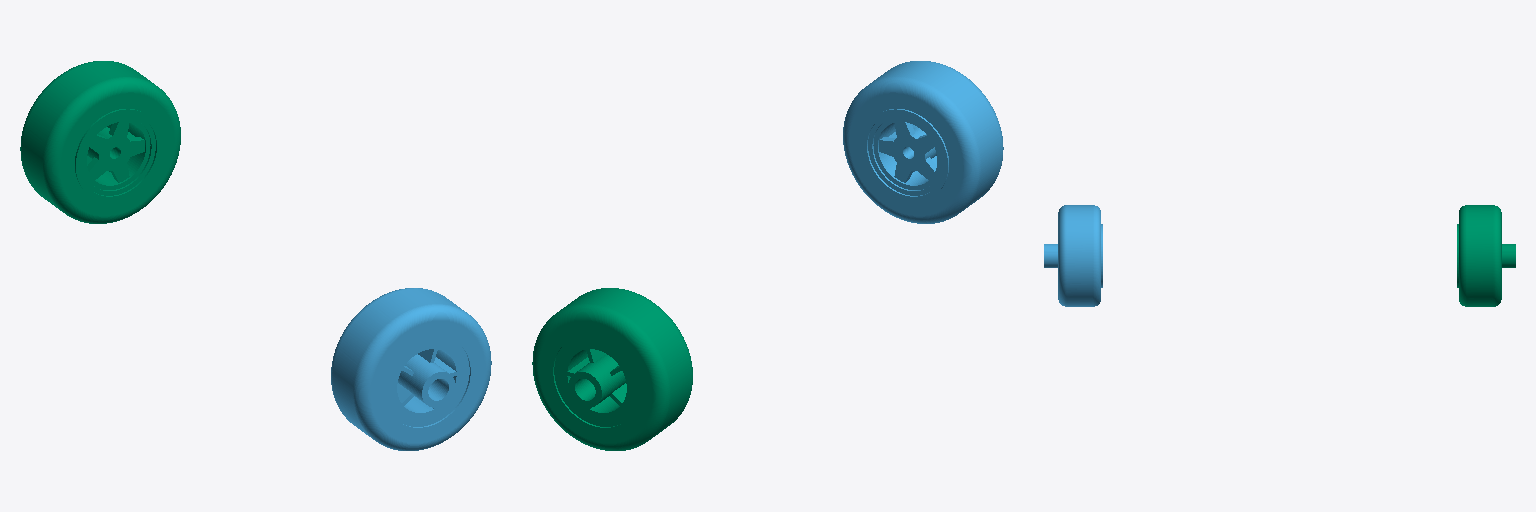
robot.urdf — my_robot:
<?xml version="1.0" encoding="utf-8"?>
<!-- =================================================================================== -->
<!-- |    This document was autogenerated by xacro from 01-robot_biele.xacro           | -->
<!-- |    EDITING THIS FILE BY HAND IS NOT RECOMMENDED                                 | -->
<!-- =================================================================================== -->
<robot name="my_robot">
  <!--SECTION PRINCIPALE-->
  <link name="base_link">
    <visual>
      <origin rpy="0.0 0.0 0.0" xyz="-0.041 -0.064 -0.01388"/>
      <geometry>
        <mesh filename="package://my_robot_description/meshes/batit.STL" scale="1 1 1"/>
      </geometry>
    </visual>
    <!--<inertial>
                
                <inertia ixx="216.440077" ixy="11.153975" ixz="37.585887"
                     iyy="198.151113" iyz="19.180359"
                     izz="149.961523" />
        </inertial>-->
  </link>
  <link name="roue_droite">
    <visual>
      <origin rpy="0 0.0 0.0" xyz="-0.01835 -0.0128 -0.01835"/>
      <geometry>
        <mesh filename="package:///my_robot_description/meshes/roue.STL" scale="1 1 1"/>
      </geometry>
    </visual>
    <collision>
      <origin rpy="1.57079632679 0.0 0.0" xyz="0.0 -0.0078 0.0"/>
      <geometry>
        <cylinder length="0.0156" radius="0.01835"/>
      </geometry>
    </collision>
    <!--Prise de la matrice d'inertie d'un cylindre, pour simplifier étant donné que la roue est très proche d'un cylindre-->
    <!--<xacro:cylinder_inertial mass="${masse_roue}" r="${roue_rayon}" h="${roue_epaisseur}"/>-->
  </link>
  <joint name="droite_wheel_joint" type="continuous">
    <origin xyz="0.0 -0.0723 0.0"/>
    <parent link="base_link"/>
    <child link="roue_droite"/>
    <axis xyz="0.0 1.0 0.0"/>
  </joint>
  <link name="roue_gauche">
    <visual>
      <origin rpy="3.14159265359 0.0 0.0" xyz="-0.01835 0.0128 0.01835"/>
      <geometry>
        <mesh filename="package:///my_robot_description/meshes/roue.STL" scale="1 1 1"/>
      </geometry>
    </visual>
    <collision>
      <origin rpy="1.57079632679 0.0 0.0" xyz="0.0 0.0078 0.0"/>
      <geometry>
        <cylinder length="0.0156" radius="0.01835"/>
      </geometry>
    </collision>
    <!--Prise de la matrice d'inertie d'un cylindre, pour simplifier étant donné que la roue est très proche d'un cylindre-->
    <!--<xacro:cylinder_inertial mass="${masse_roue}" r="${roue_rayon}" h="${roue_epaisseur}"/>-->
  </link>
  <joint name="gauche_wheel_joint" type="continuous">
    <origin xyz="0.0 0.0723 0.0"/>
    <parent link="base_link"/>
    <child link="roue_gauche"/>
    <axis xyz="0.0 1.0 0.0"/>
  </joint>
</robot>

--- Render facts (derived) ---
Views: 3 orthographic renders of the robot side by side, from view 1: azimuth 30°, elevation 25°; view 2: azimuth 150°, elevation 25°; view 3: azimuth 270°, elevation 25°.
Model my_robot with 3 links and 2 joints (2 continuous), rooted at base_link, posed all joints at 0.
Links seen in each view (by area): view 1: roue_droite, roue_gauche; view 2: roue_droite, roue_gauche; view 3: roue_droite, roue_gauche.
Boxes of the visible links, x1,y1,x2,y2 form: roue_droite: (331, 288, 491, 450); roue_gauche: (20, 61, 180, 223); roue_droite: (843, 61, 1003, 223); roue_gauche: (532, 288, 692, 450); roue_droite: (1044, 205, 1102, 306); roue_gauche: (1457, 205, 1515, 306).
Size in the robot's own frame: 0.0367 by 0.1702 by 0.0367 metres.
Meshes: 2 distinct files referenced, 2 mesh visuals loaded (1 binary STL); not drawn: 1 (reference not matched to a file when rendering).
